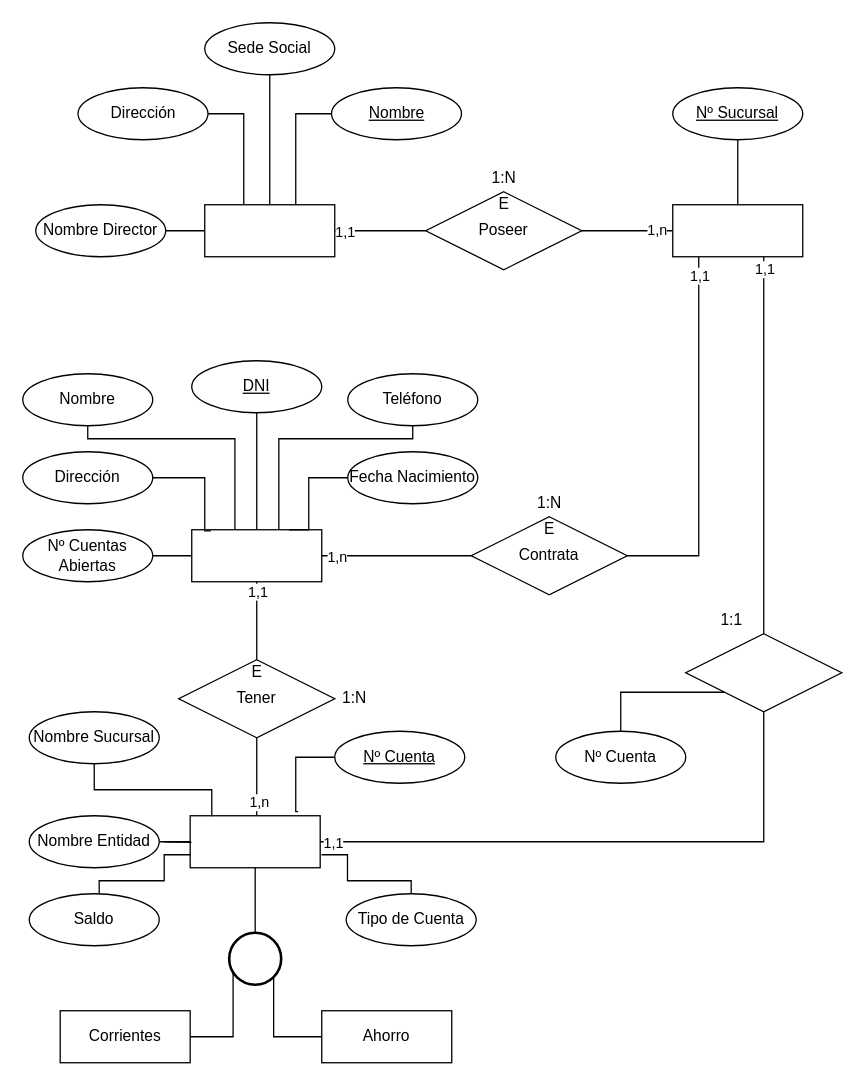
The diagram is 864 pixels wide and 1086 high, and some of its shapes have lost their labels. The shapes that lost their labels are listed below. From the top down, each one's centre as x and y in pixels, then its label:
At pixel 269 230: "Entidad".
At pixel 737 230: "Sucursal".
At pixel 256 555: "Cliente".
At pixel 763 672: "Asigna".
At pixel 254 841: "Cuenta".
At pixel 254 958: "D.T".
